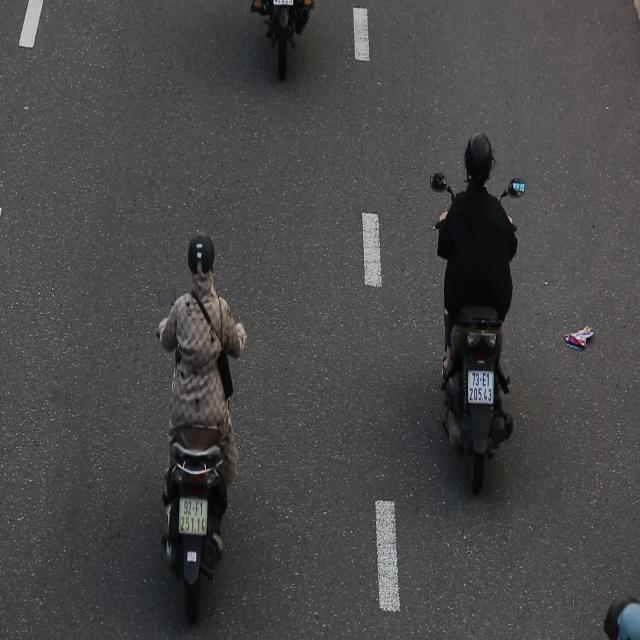motorbike: (155, 226, 251, 634), (431, 120, 527, 497)
